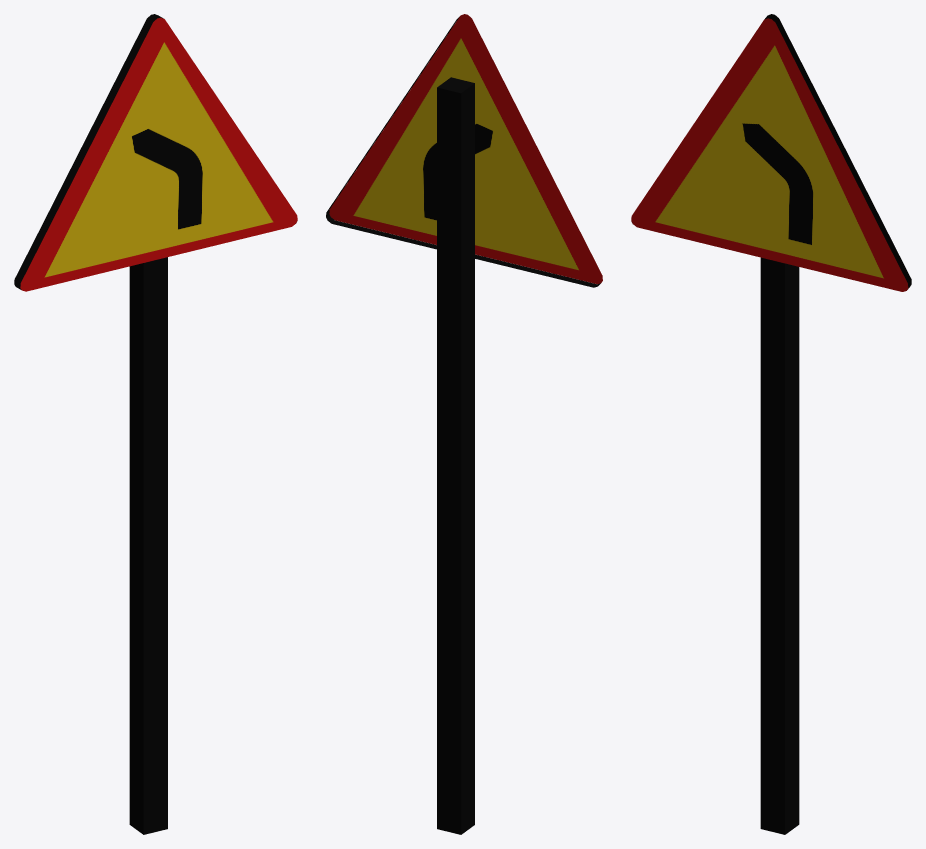
The model's file is roadSign.obj.
3 views of the same model, side by side, from view 1: azimuth 30°, elevation 25°; view 2: azimuth 150°, elevation 25°; view 3: azimuth 330°, elevation 25° (orthographic).
Parts seen in each view (by area): view 1: Plane.002, Plane.003; view 2: Plane.003, Plane.002; view 3: Plane.002, Plane.003.
Boxes of the visible parts, x1,y1,x2,y2 form: Plane.002: (20, 17, 297, 291); Plane.003: (14, 14, 296, 834); Plane.003: (326, 16, 600, 834); Plane.002: (329, 14, 602, 284); Plane.002: (631, 18, 908, 291); Plane.003: (760, 14, 911, 834).
Size of the model in its own units: 1.12 by 3.14 by 0.1207.
2 materials, 2 textured.
